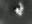person: (19, 3, 26, 17), (16, 8, 20, 17)
